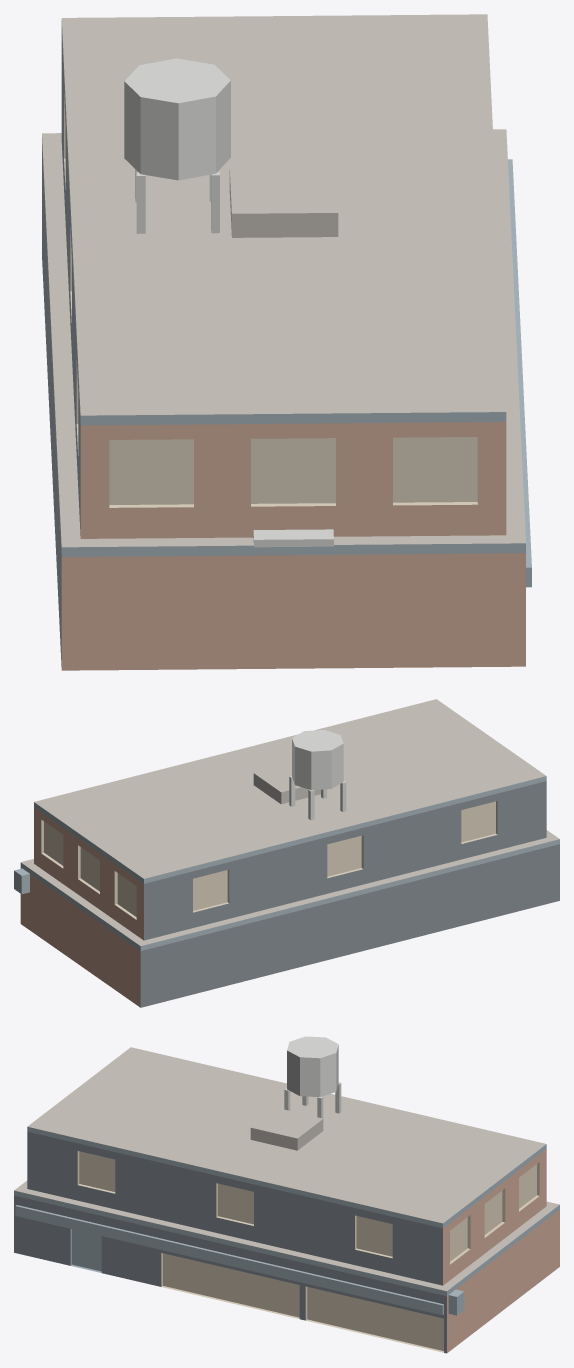
File: doitt-262867__lod_0.glb
The picture shows the model from 3 angles, top to bottom: view 1: azimuth 30°, elevation 25°; view 2: azimuth 150°, elevation 25°; view 3: azimuth 270°, elevation 25°; orthographic projection. The views are drawn at different scales.
Size of the model in its own units: 26.52 by 12.65 by 32.5.
